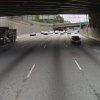Bridge: (1, 2, 96, 31)
